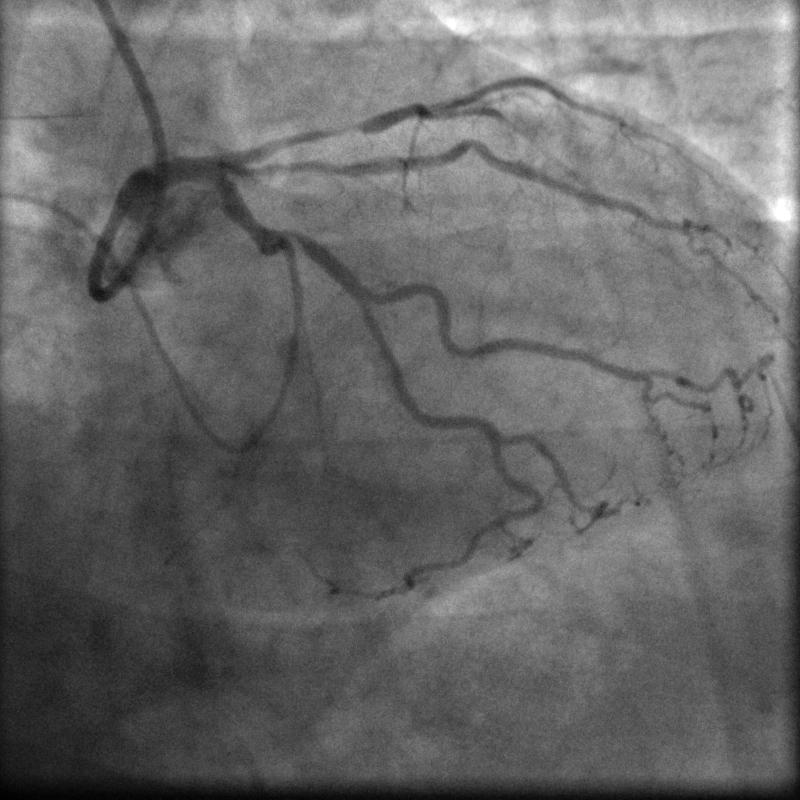Stenosis: (282, 224, 309, 253)
